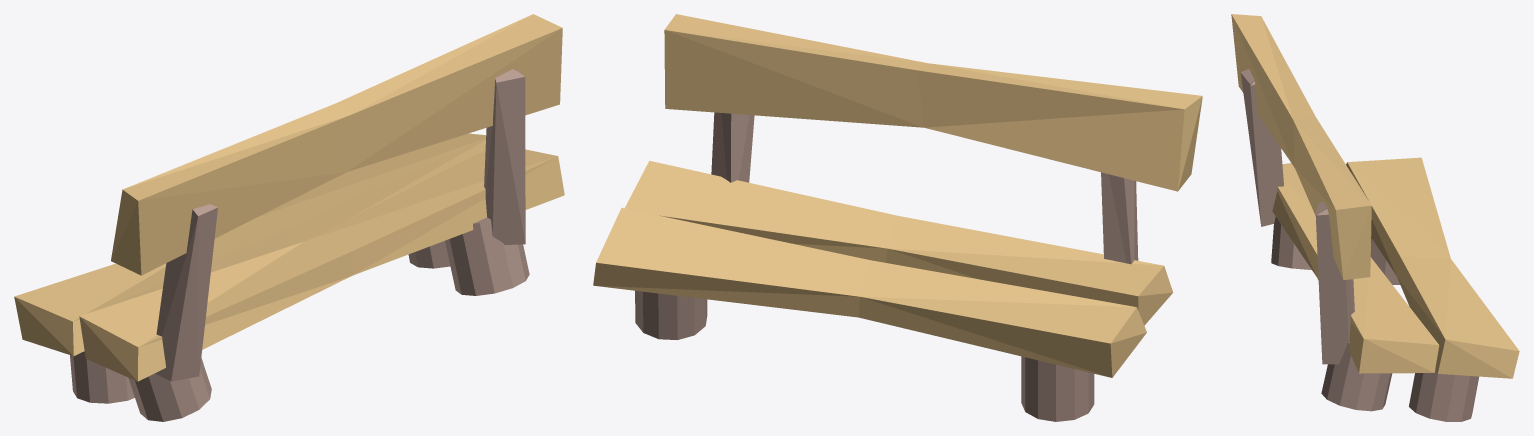
Rendered from bench.glb.
The picture shows the model from 3 angles, left to right: view 1: azimuth 30°, elevation 25°; view 2: azimuth 150°, elevation 25°; view 3: azimuth 270°, elevation 25°; orthographic projection. The views are drawn at different scales.
Parts seen in each view (by area): view 1: bench-plank-three, bench-plank-one, bench-plank-two, group1857767654, group361907561, group1064794239, group1480869683, group1698771934, group613786310; view 2: bench-plank-three, bench-plank-two, bench-plank-one, group1698771934, group1857767654, group613786310, group361907561; view 3: bench-plank-two, bench-plank-three, bench-plank-one, group361907561, group1857767654, group613786310, group1064794239, group1480869683, group1698771934.
Boxes of the visible parts, x1=… form: bench-plank-three: x1=111, y1=14, x2=562, y2=275; bench-plank-one: x1=79, y1=149, x2=564, y2=381; bench-plank-two: x1=14, y1=133, x2=486, y2=356; group1857767654: x1=155, y1=204, x2=217, y2=381; group361907561: x1=484, y1=69, x2=525, y2=244; group1064794239: x1=445, y1=217, x2=529, y2=295; group1480869683: x1=128, y1=358, x2=211, y2=421; group1698771934: x1=70, y1=351, x2=134, y2=403; group613786310: x1=408, y1=241, x2=450, y2=268; bench-plank-three: x1=664, y1=14, x2=1202, y2=191; bench-plank-two: x1=593, y1=207, x2=1146, y2=377; bench-plank-one: x1=625, y1=160, x2=1173, y2=325; group1698771934: x1=1021, y1=356, x2=1094, y2=421; group1857767654: x1=1101, y1=172, x2=1138, y2=264; group613786310: x1=635, y1=290, x2=707, y2=339; group361907561: x1=711, y1=112, x2=754, y2=182; bench-plank-two: x1=1346, y1=157, x2=1519, y2=378; bench-plank-three: x1=1231, y1=14, x2=1371, y2=280; bench-plank-one: x1=1272, y1=163, x2=1439, y2=373; group361907561: x1=1315, y1=201, x2=1354, y2=364; group1857767654: x1=1240, y1=69, x2=1283, y2=226; group613786310: x1=1409, y1=368, x2=1478, y2=421; group1064794239: x1=1321, y1=342, x2=1392, y2=411; group1480869683: x1=1271, y1=217, x2=1311, y2=269; group1698771934: x1=1370, y1=237, x2=1400, y2=284.
Bounding box in the file's own units: 0.9418 × 0.4947 × 0.5271.
